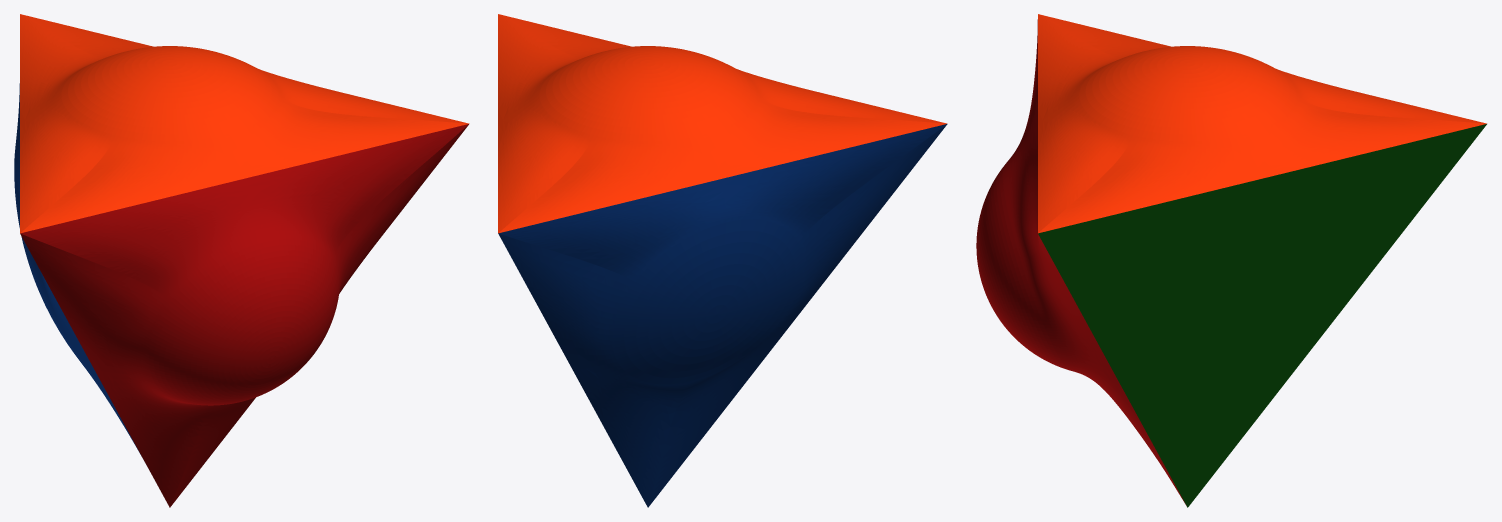
The model's file is 2_3_1_0_tetrahedron.obj.
3 renders of one model, left to right at view 1: azimuth 30°, elevation 25°; view 2: azimuth 150°, elevation 25°; view 3: azimuth 270°, elevation 25°, orthographic.
Parts seen in each view (by area): view 1: Level_3_-_level_3_front_Level_3_-_level_3_front.001, Level_2_-_level_2_top_Level_2_-_level_2_top.001, Level_1_-_level_1_left_Level_1_-_level_1_left.002; view 2: Level_1_-_level_1_left_Level_1_-_level_1_left.002, Level_2_-_level_2_top_Level_2_-_level_2_top.001; view 3: Level_0_-_level_0_right, Level_2_-_level_2_top_Level_2_-_level_2_top.001, Level_3_-_level_3_front_Level_3_-_level_3_front.001.
Part boxes in pixels (x1,y1,x2,y2): Level_3_-_level_3_front_Level_3_-_level_3_front.001: [20, 124, 468, 507]; Level_2_-_level_2_top_Level_2_-_level_2_top.001: [20, 14, 468, 233]; Level_1_-_level_1_left_Level_1_-_level_1_left.002: [14, 83, 141, 456]; Level_1_-_level_1_left_Level_1_-_level_1_left.002: [498, 124, 947, 507]; Level_2_-_level_2_top_Level_2_-_level_2_top.001: [498, 14, 946, 233]; Level_0_-_level_0_right: [1038, 124, 1486, 507]; Level_2_-_level_2_top_Level_2_-_level_2_top.001: [1038, 14, 1486, 233]; Level_3_-_level_3_front_Level_3_-_level_3_front.001: [976, 19, 1186, 505].
Size of the model in its own units: 0.1 by 0.0946 by 0.0984.
